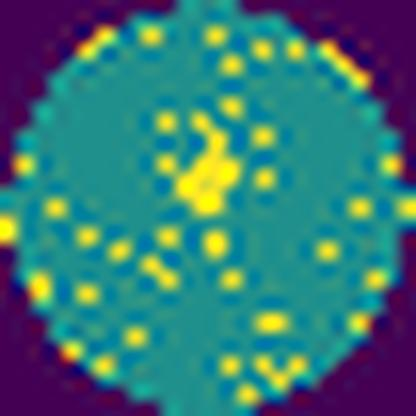Center: (161, 112, 245, 218)
